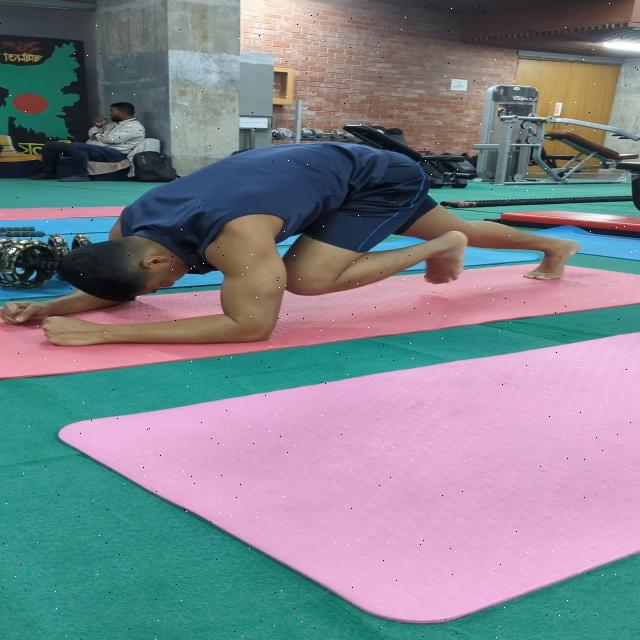Normal_MountainClimbers: (0, 131, 589, 361)
